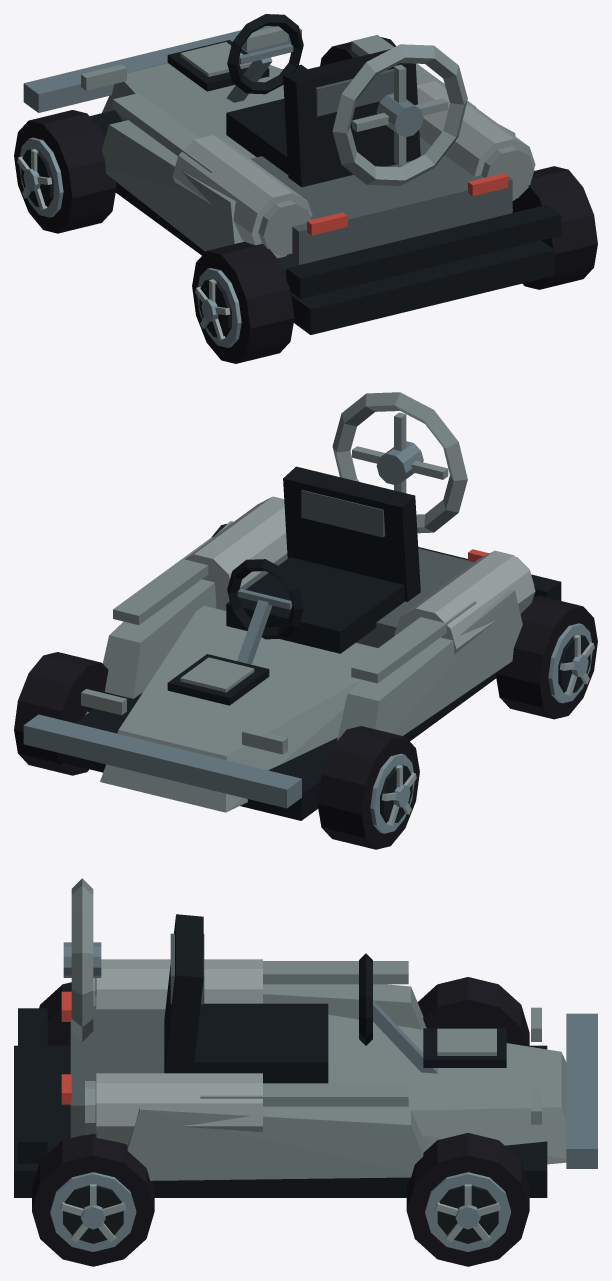
File: kart.glb
3 renders of one model, top to bottom at view 1: azimuth 30°, elevation 25°; view 2: azimuth 150°, elevation 25°; view 3: azimuth 270°, elevation 25°, orthographic. The views are drawn at different scales.
Parts seen in each view (by area): view 1: chassis, wheel-rear-left, wheel-front-left, wheel-rear-right, wheel-front-right; view 2: chassis, wheel-front-left, wheel-rear-left, wheel-front-right; view 3: chassis, wheel-front-right, wheel-rear-right, wheel-front-left, wheel-rear-left.
Boxes of the visible parts, x1,y1,x2,y2 form: chassis: (23, 14, 561, 334); wheel-rear-left: (192, 241, 294, 363); wheel-front-left: (14, 110, 116, 233); wheel-rear-right: (512, 166, 597, 289); wheel-front-right: (320, 37, 395, 66); chassis: (23, 392, 561, 820); wheel-front-left: (317, 726, 419, 849); wheel-rear-left: (495, 595, 597, 719); wheel-front-right: (14, 652, 113, 775); chassis: (14, 878, 597, 1197); wheel-front-right: (406, 1133, 529, 1266); wheel-rear-right: (32, 1133, 154, 1266); wheel-front-left: (417, 977, 529, 1045); wheel-rear-left: (39, 978, 96, 1045).
Bounding box in the file's own units: 2.3 × 1.63 × 2.95.
